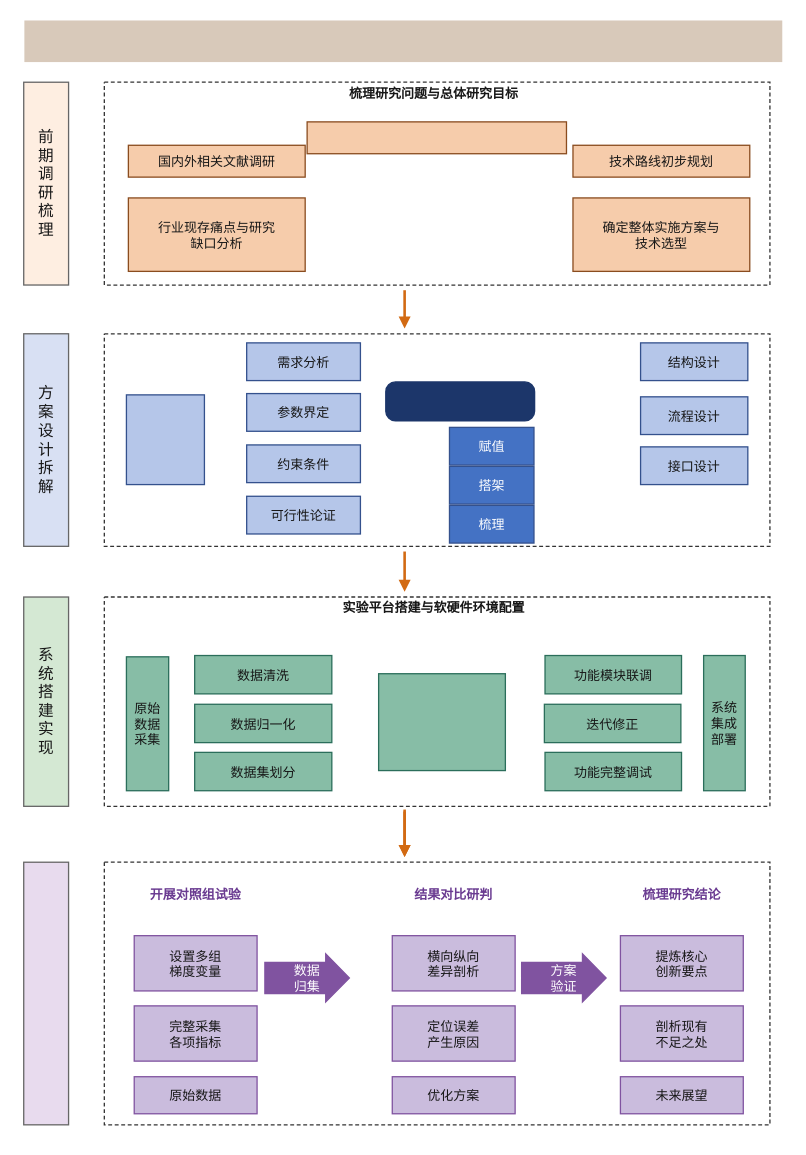
This 806x1155 diagram has some shape labels left out. Here are the shapes that lost their labels. From the top down, the centre of each, then its label:
At pixel 403 41: "研究总体技术路线图（示例）".
At pixel 436 137: "拟定整体研究技术思路".
At pixel 460 401: "算法模型构建".
At pixel 165 439: "总体方案 拆解".
At pixel 442 722: "模型训练 样品制备 程序开发调试".
At pixel 46 993: "测 试 分 析 总 结".
